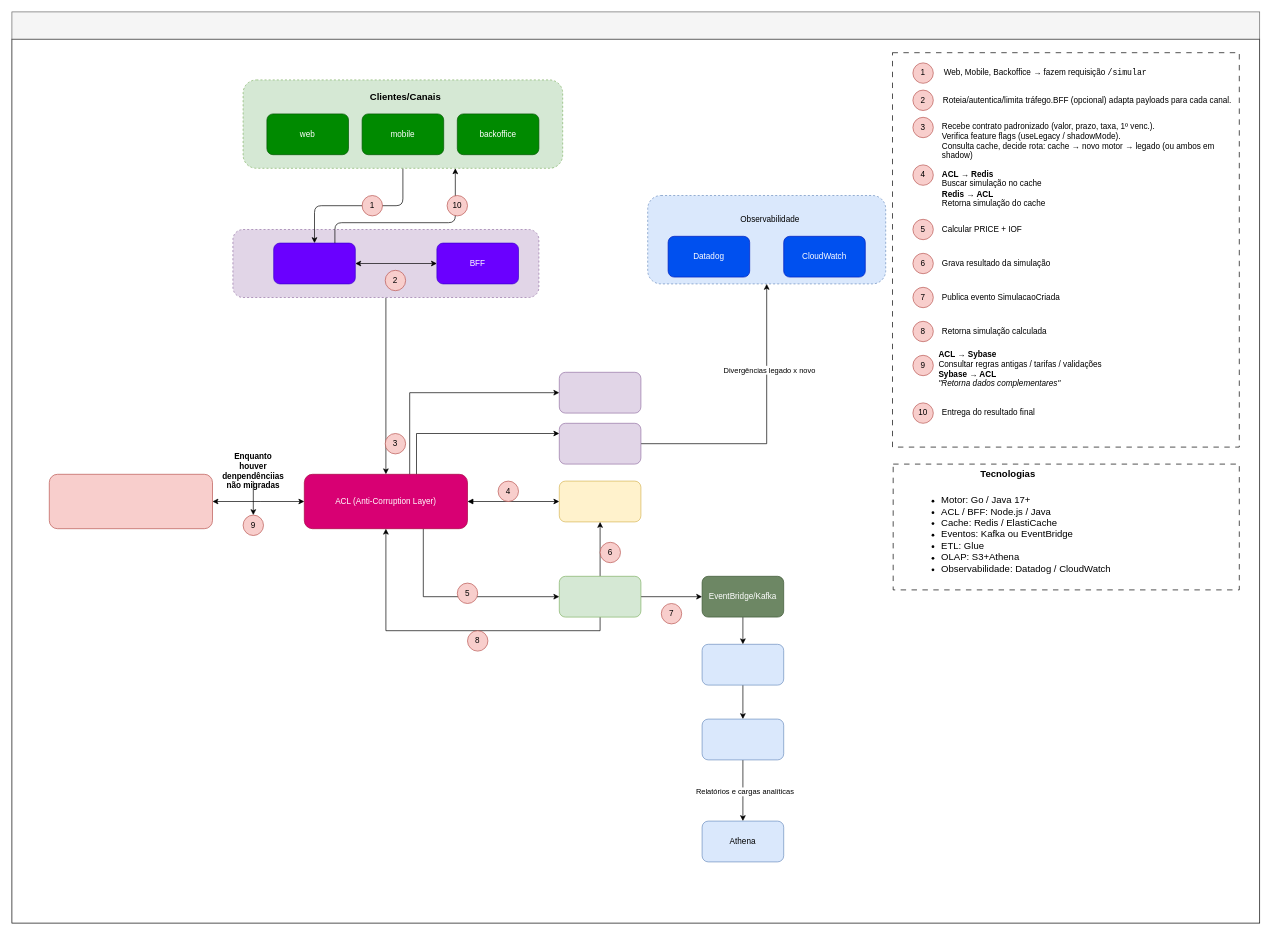
The diagram is 1272 pixels wide and 935 high, and some of its shapes have lost their labels. The shapes that lost their labels are listed below. From the top down, each one's box as (x1, y1, x2, y2) in pixels, then its label:
(11, 11, 1260, 39): DESENHO DE SOLUÇÃO
(273, 242, 355, 284): API Gateway
(559, 372, 641, 413): Feature toogle
(559, 423, 641, 464): Shadow Mode
(49, 474, 213, 529): Sybase, procedures
(559, 480, 641, 522): Cache (Redis / ElastiCache)
(559, 576, 641, 617): Novo Motor de Simulação (stateless) PRICE + IOF
(701, 644, 784, 685): Glue ETL
(701, 718, 784, 760): S3 Data Lake
